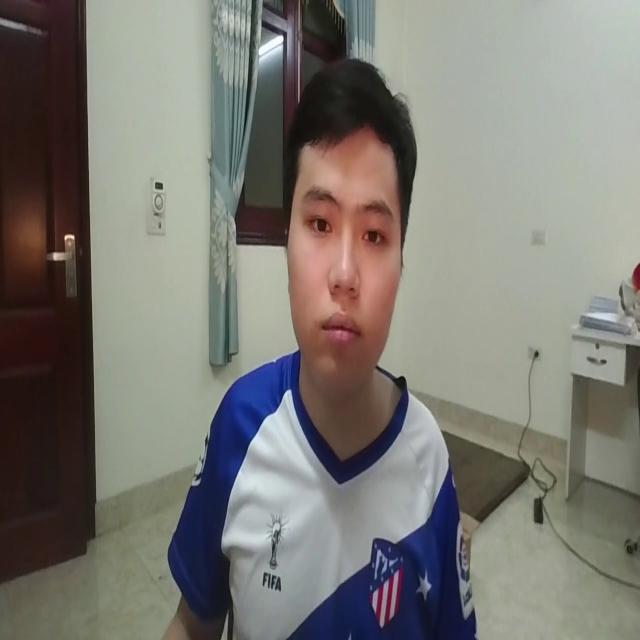student: (141, 48, 489, 640)
